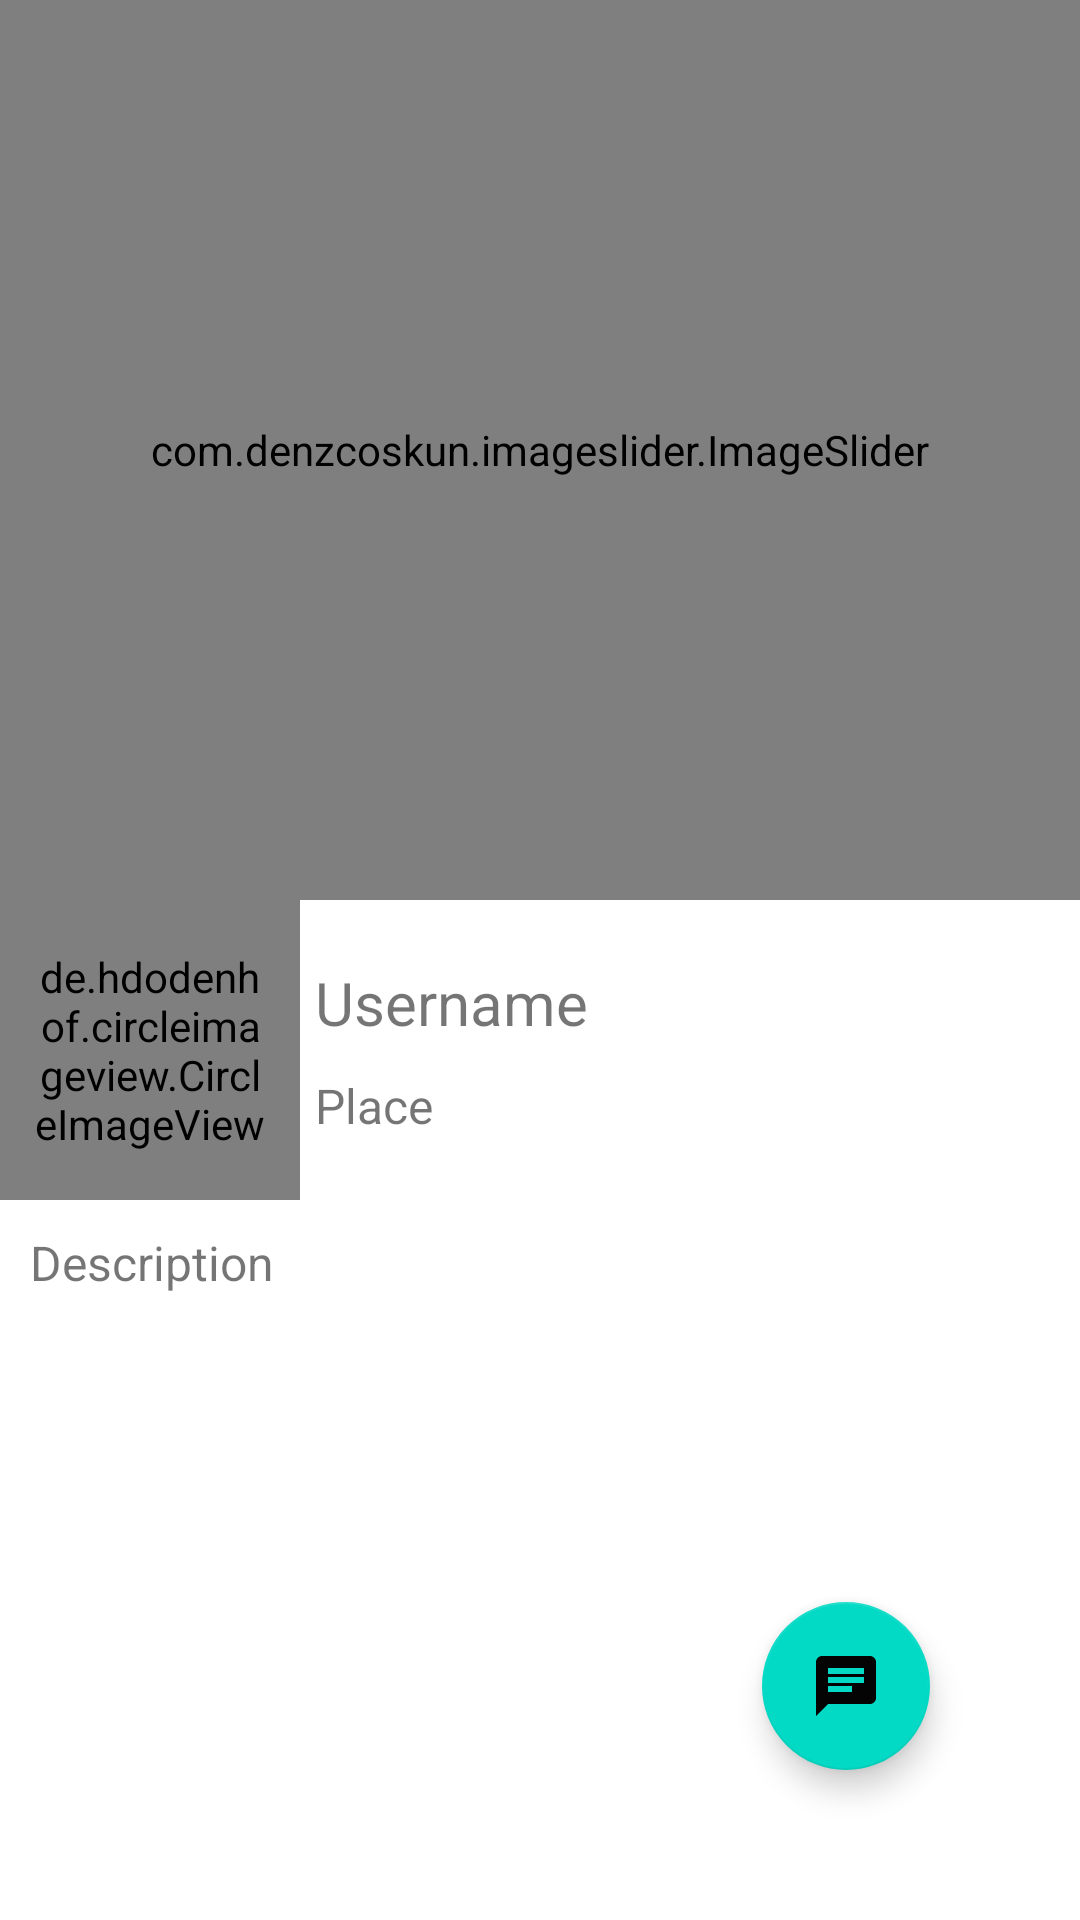

Named icons in this screenshot (1080 x 1920) and their centers, point (x, y):
chat: point (846, 1686)
